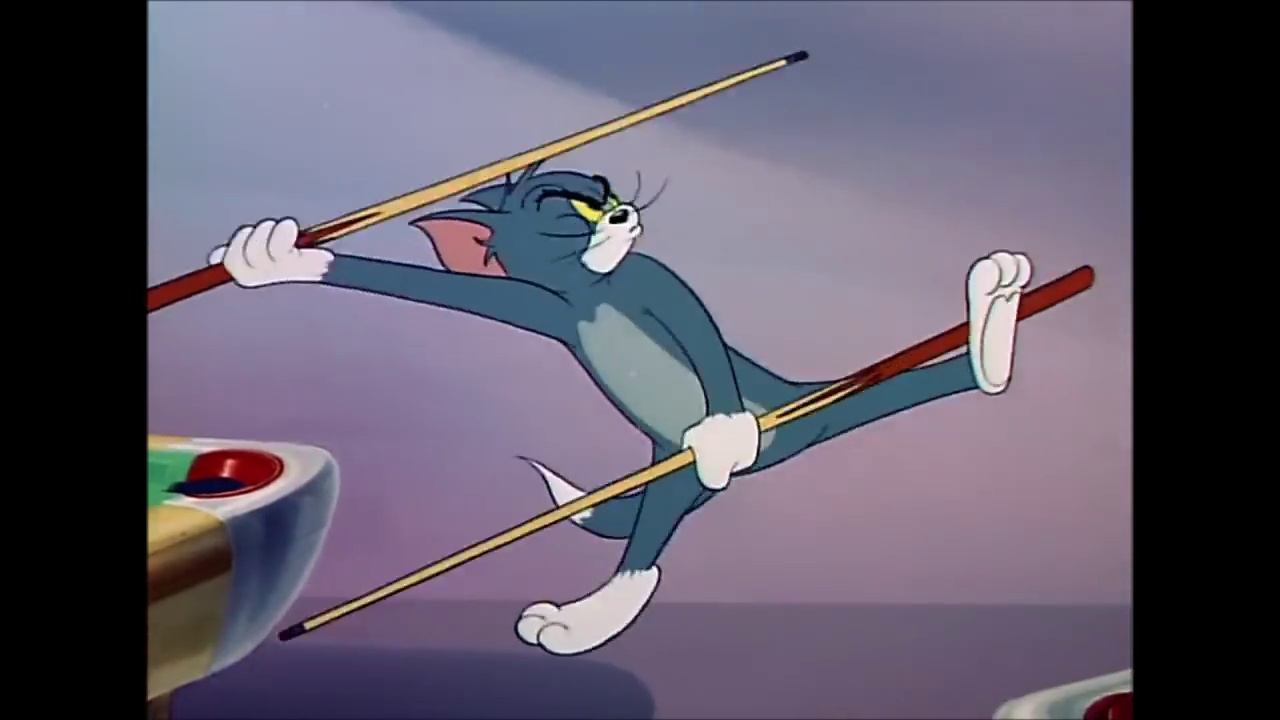angry: (533, 170, 640, 274)
